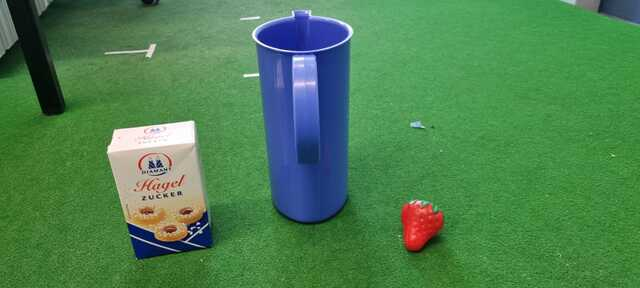004_sugar_box: (107, 120, 217, 257)
012_strawberry: (399, 199, 447, 254)
019_pitcher_base: (251, 9, 359, 223)
